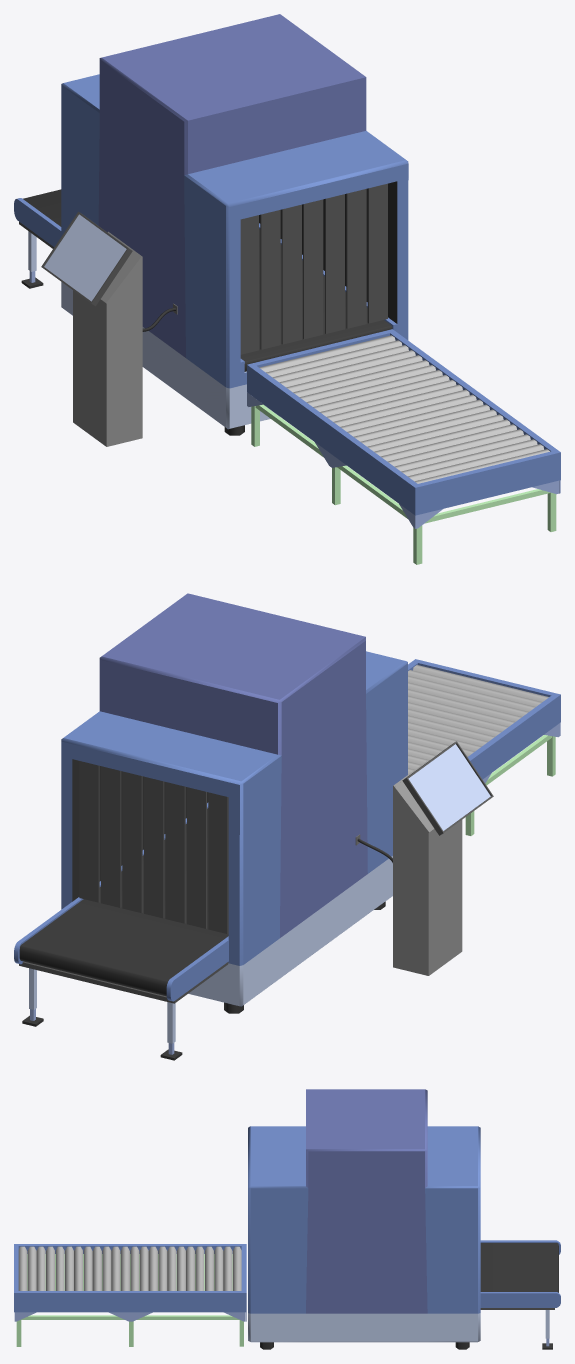
Rendered from Suitcase Scanner.fbx.
3 views of the same model, one above another, from view 1: azimuth 30°, elevation 25°; view 2: azimuth 150°, elevation 25°; view 3: azimuth 270°, elevation 25° (orthographic). The views are drawn at different scales.
Parts seen in each view (by area): view 1: Suitcase scanner; view 2: Suitcase scanner; view 3: Suitcase scanner.
Boxes of the visible parts, left/top/right/bottom form: Suitcase scanner: left=14, top=14, right=560, bottom=564; Suitcase scanner: left=14, top=593, right=560, bottom=1060; Suitcase scanner: left=14, top=1089, right=560, bottom=1349.
Size of the model in its own units: 201 by 196 by 470.
